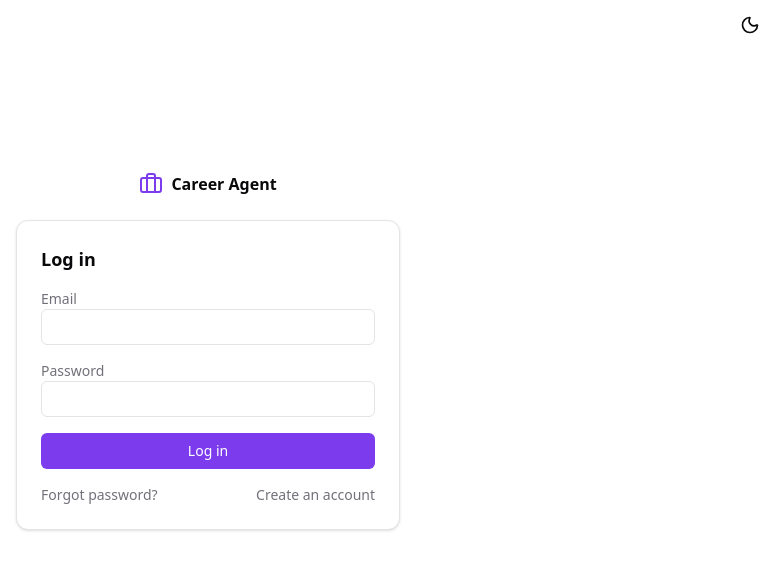
Test: LoginPage › shows an error message on invalid credentials
In the field labelled "Email": (208, 327) [41, 309, 375, 345], type "user@example.com"
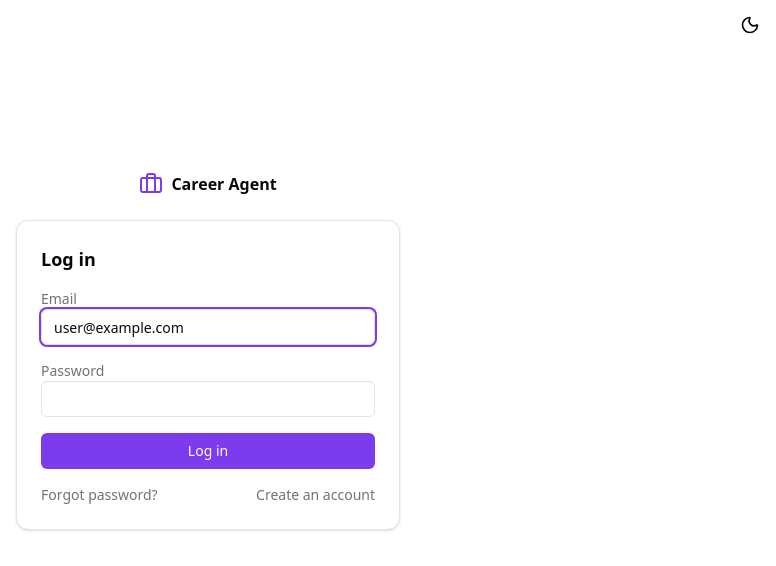
In the password field labelled "Password": (208, 399) [41, 381, 375, 417], type "wrong-password"
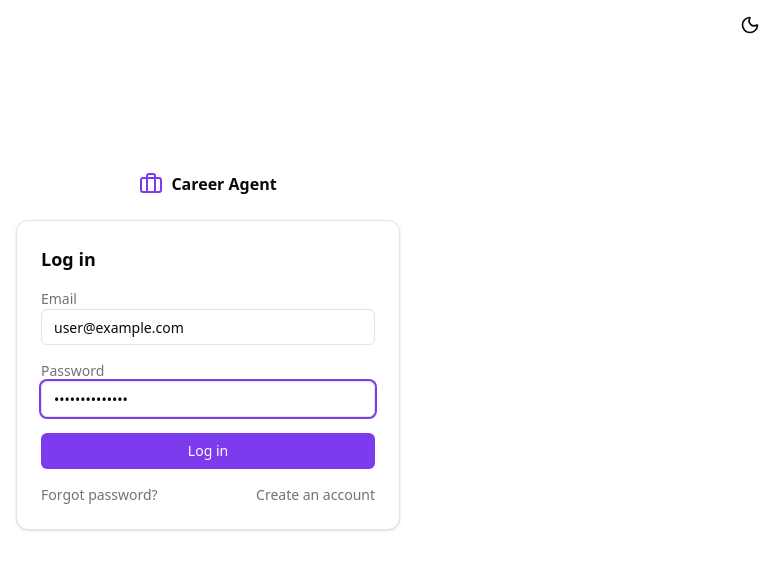
Click the button "Log in": (208, 451) [41, 433, 375, 469]
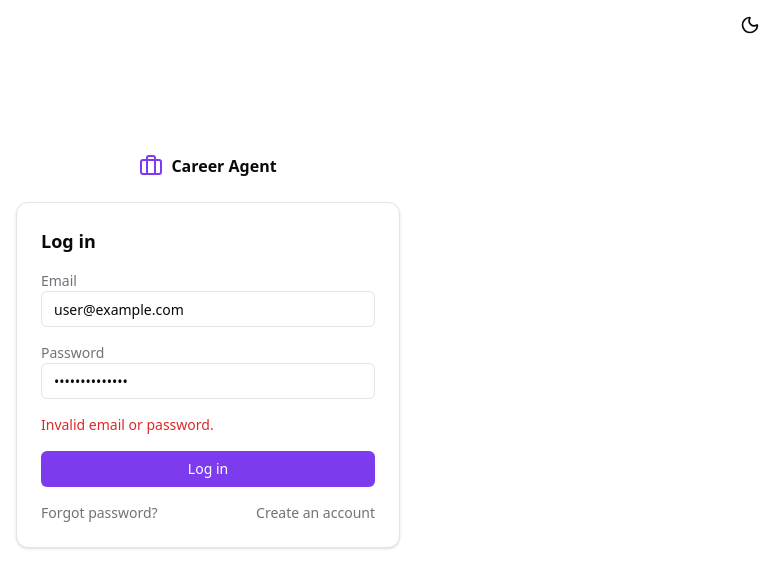
Expected: the text "Invalid email or password." is shown, [41, 415, 214, 434]
